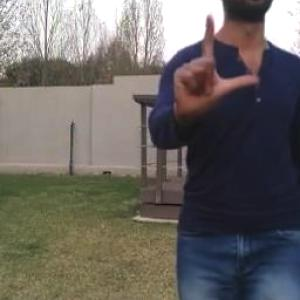land_hand: (167, 7, 265, 123)
